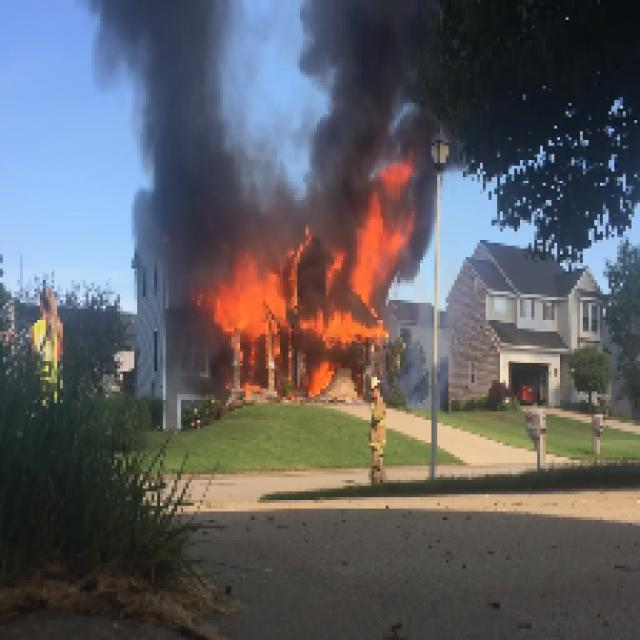fire: (217, 263, 377, 343)
smoke: (138, 2, 230, 245), (317, 10, 376, 192)
